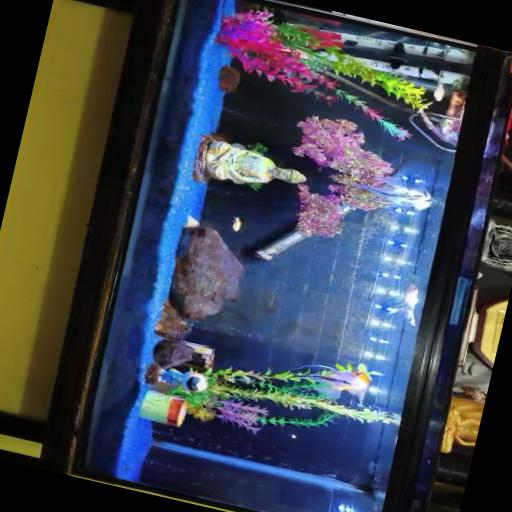Fish: (353, 183, 431, 209), (306, 370, 369, 402), (387, 283, 418, 325), (432, 81, 444, 100), (231, 216, 240, 230)
